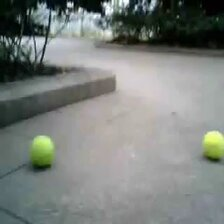tennis: (30, 136, 53, 165), (202, 132, 224, 159)
